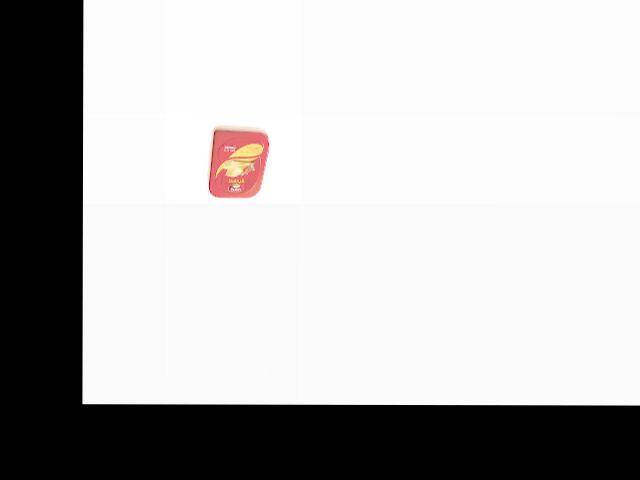cheese: (206, 126, 269, 202)
